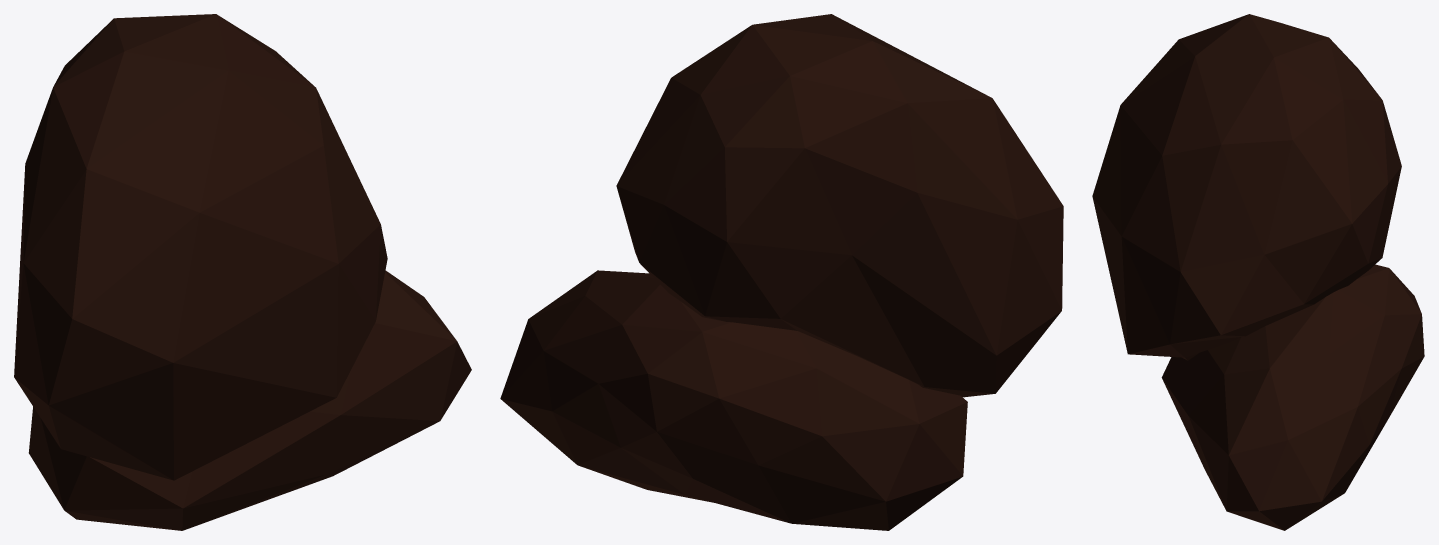
Rendered from PiedraMarron.fbx.
The picture shows the model from 3 angles, left to right: view 1: azimuth 30°, elevation 25°; view 2: azimuth 150°, elevation 25°; view 3: azimuth 270°, elevation 25°; orthographic projection. The views are drawn at different scales.
Visible parts, largest first — view 1: BrownRock1; view 2: BrownRock1; view 3: BrownRock1.
Part boxes in pixels (left/top/right/bottom): BrownRock1: left=14, top=14, right=471, bottom=530; BrownRock1: left=500, top=14, right=1063, bottom=530; BrownRock1: left=1092, top=14, right=1424, bottom=530.
Bounding box in the file's own units: 596 × 563 × 412.
